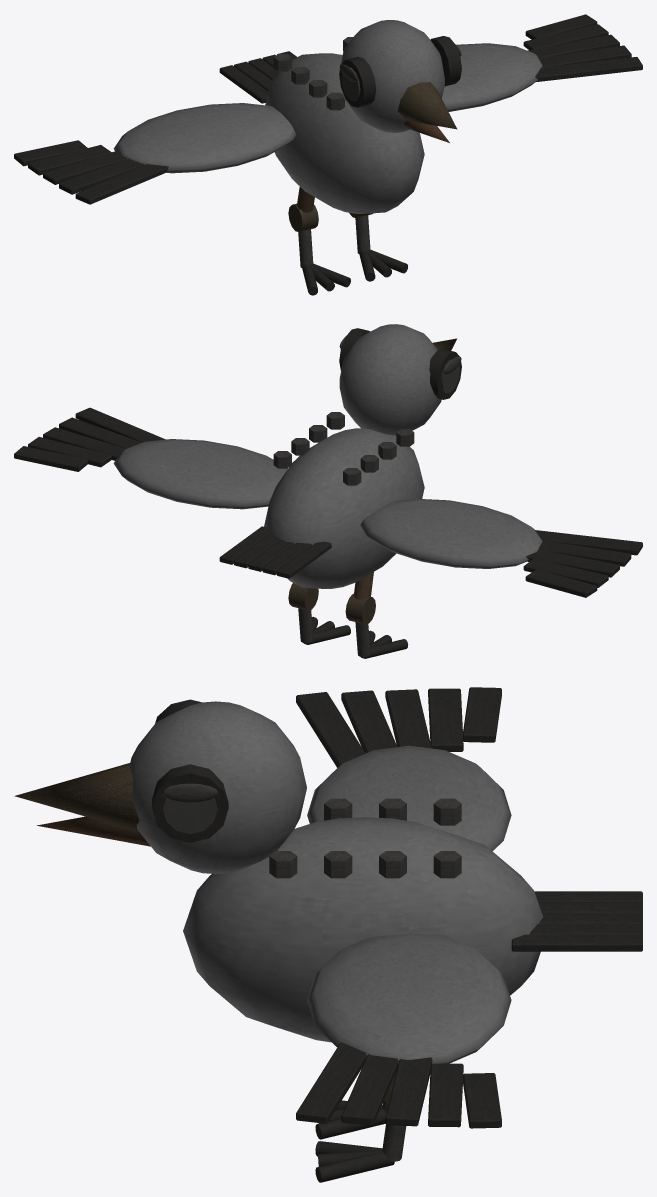
Rendered from wild-teneke-marti.glb.
3 views of the same model, one above another, from view 1: azimuth 30°, elevation 25°; view 2: azimuth 150°, elevation 25°; view 3: azimuth 270°, elevation 25° (orthographic). The views are drawn at different scales.
Visible parts, largest first — view 1: TenekeMarti__Body_Mesh, TenekeMarti__Head_Mesh, TenekeMarti__Wing_L_Mesh, TenekeMarti__WingTip_L_Mesh, TenekeMarti__WingTip_R_Mesh, TenekeMarti__Wing_R_Mesh, TenekeMarti__Tail_Mesh, TenekeMarti__Shin_L_Mesh, TenekeMarti__Foot_L_Mesh, TenekeMarti__Foot_R_Mesh, TenekeMarti__Shin_R_Mesh, TenekeMarti__Jaw_Mesh; view 2: TenekeMarti__Body_Mesh, TenekeMarti__Head_Mesh, TenekeMarti__Wing_L_Mesh, TenekeMarti__Wing_R_Mesh, TenekeMarti__WingTip_L_Mesh, TenekeMarti__WingTip_R_Mesh, TenekeMarti__Tail_Mesh, TenekeMarti__Shin_L_Mesh, TenekeMarti__Shin_R_Mesh, TenekeMarti__Foot_L_Mesh, TenekeMarti__Foot_R_Mesh; view 3: TenekeMarti__Body_Mesh, TenekeMarti__Head_Mesh, TenekeMarti__Wing_R_Mesh, TenekeMarti__Wing_L_Mesh, TenekeMarti__WingTip_R_Mesh, TenekeMarti__WingTip_L_Mesh, TenekeMarti__Tail_Mesh, TenekeMarti__Foot_R_Mesh, TenekeMarti__Jaw_Mesh, TenekeMarti__Foot_L_Mesh, TenekeMarti__Lid_R_Mesh, TenekeMarti__Shin_R_Mesh.
Part boxes in pixels (<box>): TenekeMarti__Body_Mesh: <box>265,37,424,213</box>; TenekeMarti__Head_Mesh: <box>339,20,461,132</box>; TenekeMarti__Wing_L_Mesh: <box>113,103,296,173</box>; TenekeMarti__WingTip_L_Mesh: <box>14,140,168,204</box>; TenekeMarti__WingTip_R_Mesh: <box>523,14,642,81</box>; TenekeMarti__Wing_R_Mesh: <box>442,43,542,111</box>; TenekeMarti__Tail_Mesh: <box>219,51,296,103</box>; TenekeMarti__Shin_L_Mesh: <box>288,203,318,268</box>; TenekeMarti__Foot_L_Mesh: <box>302,263,350,295</box>; TenekeMarti__Foot_R_Mesh: <box>359,249,407,281</box>; TenekeMarti__Shin_R_Mesh: <box>349,212,372,253</box>; TenekeMarti__Jaw_Mesh: <box>404,120,449,142</box>; TenekeMarti__Body_Mesh: <box>264,412,424,588</box>; TenekeMarti__Head_Mesh: <box>339,324,461,435</box>; TenekeMarti__Wing_L_Mesh: <box>360,498,542,568</box>; TenekeMarti__Wing_R_Mesh: <box>113,439,287,509</box>; TenekeMarti__WingTip_L_Mesh: <box>523,530,642,597</box>; TenekeMarti__WingTip_R_Mesh: <box>14,407,165,471</box>; TenekeMarti__Tail_Mesh: <box>219,526,331,578</box>; TenekeMarti__Shin_L_Mesh: <box>345,593,375,657</box>; TenekeMarti__Shin_R_Mesh: <box>288,583,318,643</box>; TenekeMarti__Foot_L_Mesh: <box>361,630,408,658</box>; TenekeMarti__Foot_R_Mesh: <box>304,616,350,644</box>; TenekeMarti__Body_Mesh: <box>183,798,543,1042</box>; TenekeMarti__Head_Mesh: <box>14,699,306,873</box>; TenekeMarti__Wing_R_Mesh: <box>307,933,511,1064</box>; TenekeMarti__Wing_L_Mesh: <box>307,745,511,851</box>; TenekeMarti__WingTip_R_Mesh: <box>296,1042,501,1128</box>; TenekeMarti__WingTip_L_Mesh: <box>296,687,501,767</box>; TenekeMarti__Tail_Mesh: <box>511,891,642,951</box>; TenekeMarti__Foot_R_Mesh: <box>315,1141,394,1182</box>; TenekeMarti__Jaw_Mesh: <box>37,816,150,846</box>; TenekeMarti__Foot_L_Mesh: <box>315,1100,386,1139</box>; TenekeMarti__Lid_R_Mesh: <box>162,783,218,802</box>; TenekeMarti__Shin_R_Mesh: <box>382,1072,406,1161</box>.
Size of the model in its own units: 1.97 by 0.9294 by 1.21.
7 materials, 7 textured.
